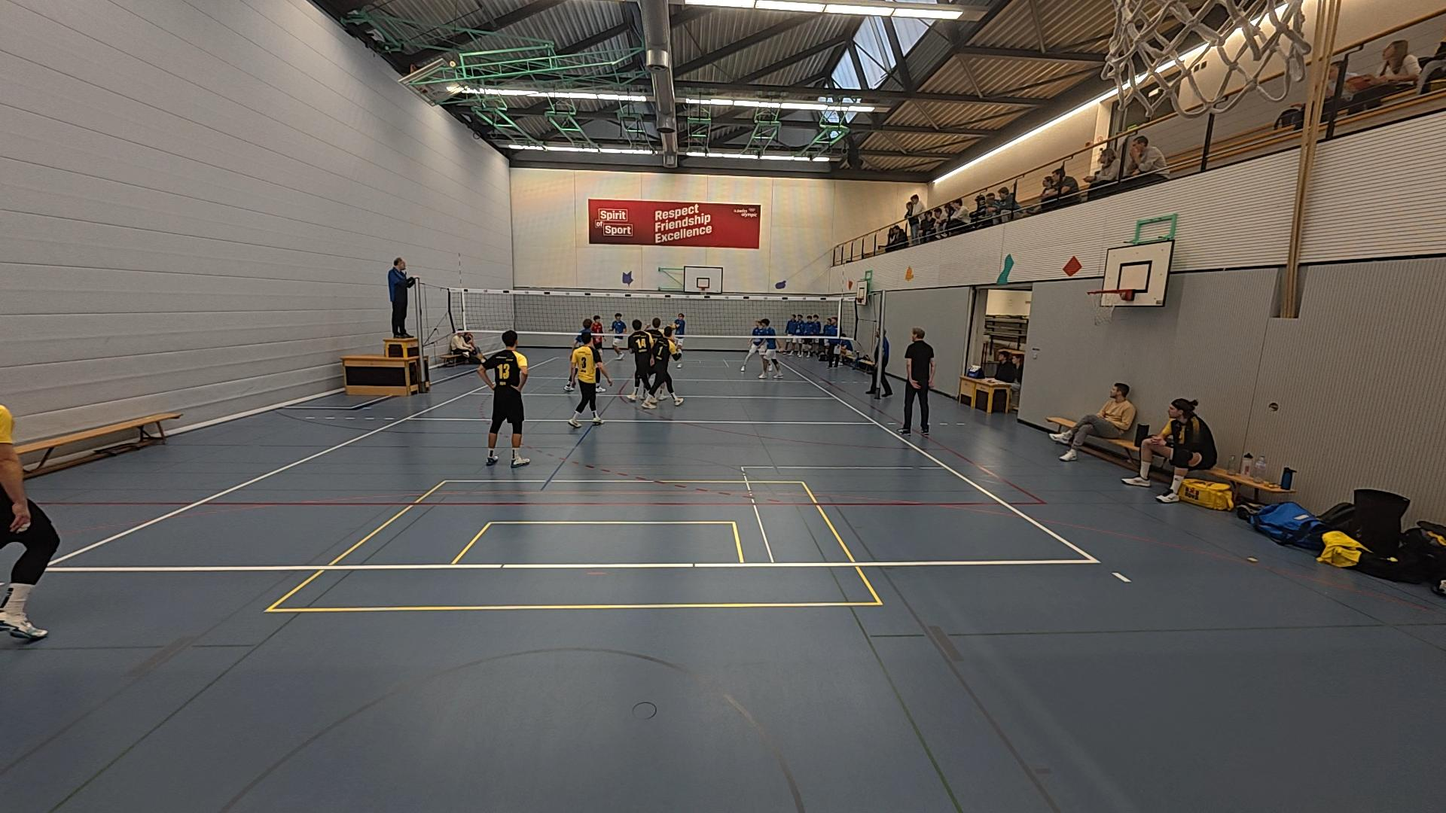Player: (0, 393, 56, 642), (480, 330, 531, 467), (568, 333, 610, 428), (563, 315, 605, 392), (639, 316, 672, 401), (627, 320, 656, 409), (657, 318, 682, 405), (754, 317, 782, 381), (741, 320, 774, 374), (609, 311, 631, 362), (669, 311, 687, 370), (588, 313, 606, 367)
